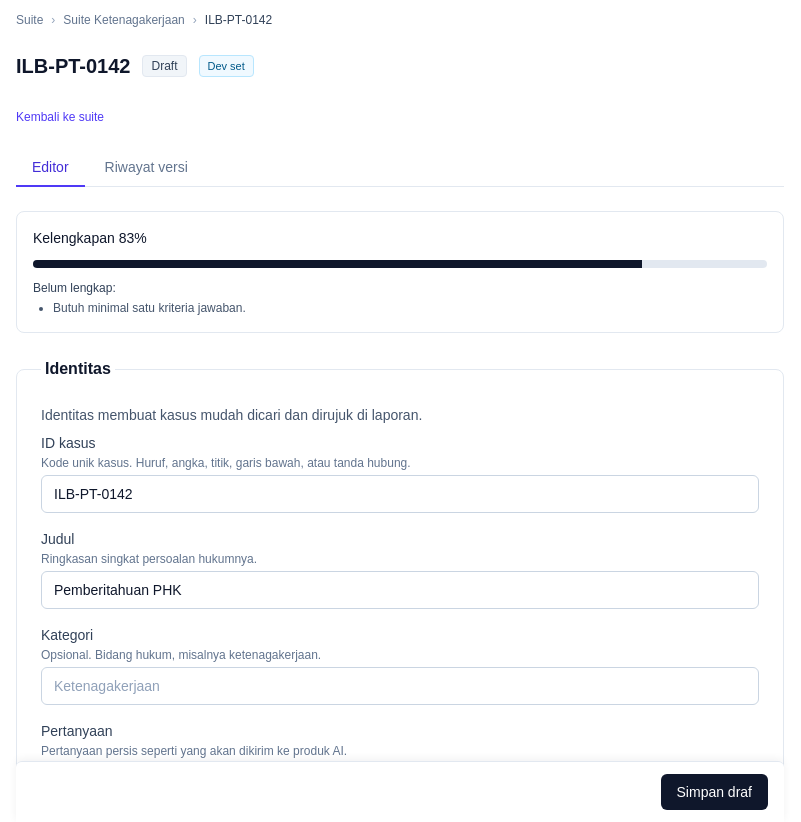
Test case: EditCasePage saving › shows a banner when saving fails for a reason that is not a field
This screenshot has width=801, height=822.
Expected: the heading "ILB-PT-0142" is shown, [16,52,130,80]
Step 1. Click the button "Simpan draf" → x=714, y=792, box [660,774,768,810]
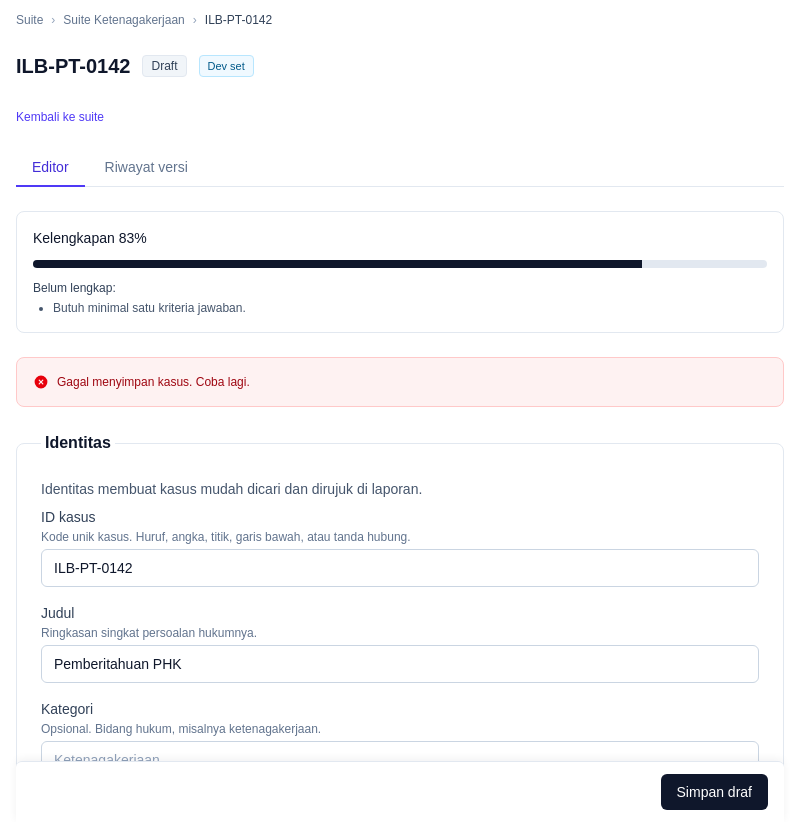
Now the message reads "Gagal menyimpan kasus. Coba lagi.", box [57,375,250,389]
